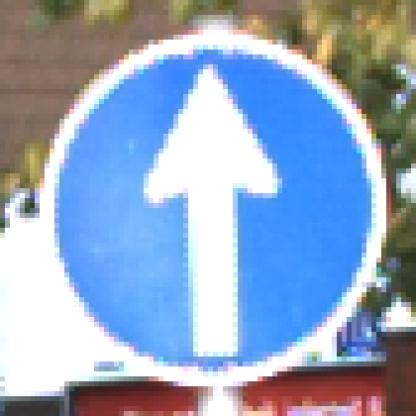AheadOnly: (41, 36, 382, 382)
